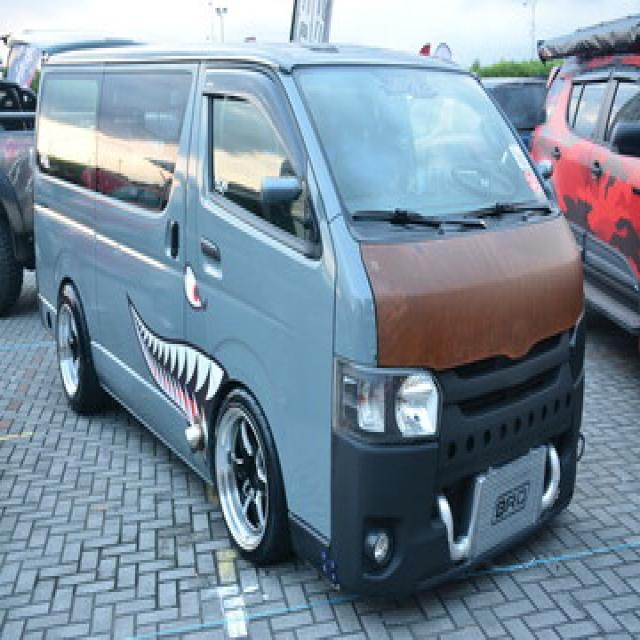van: (34, 40, 635, 597), (532, 16, 638, 333)
